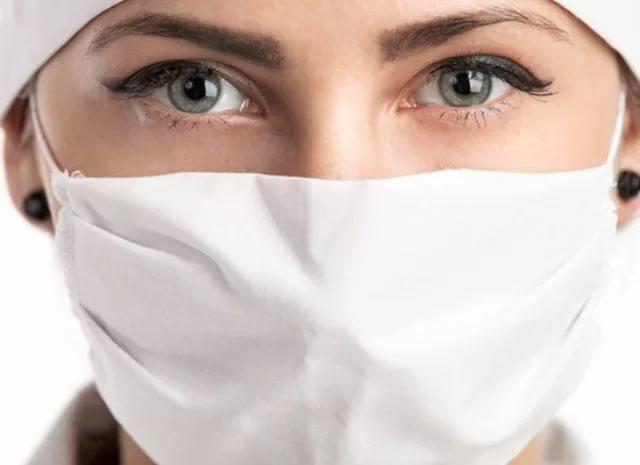mask: (41, 1, 622, 465)
